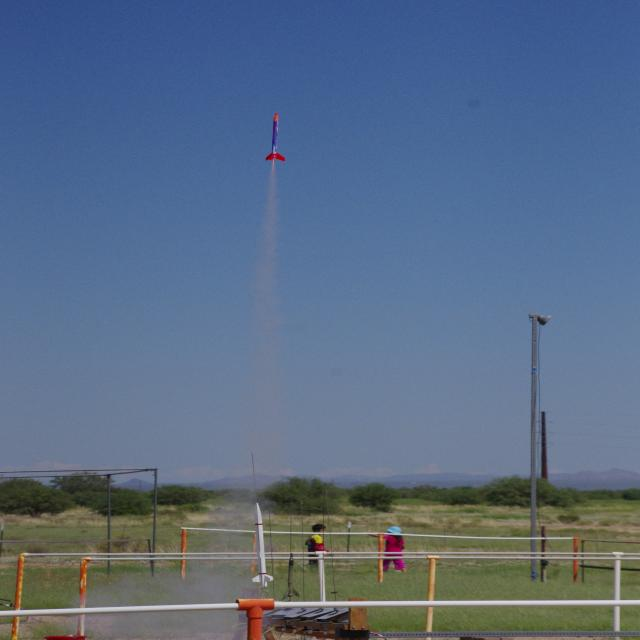Rocket: (249, 502, 276, 588), (265, 111, 285, 161)
